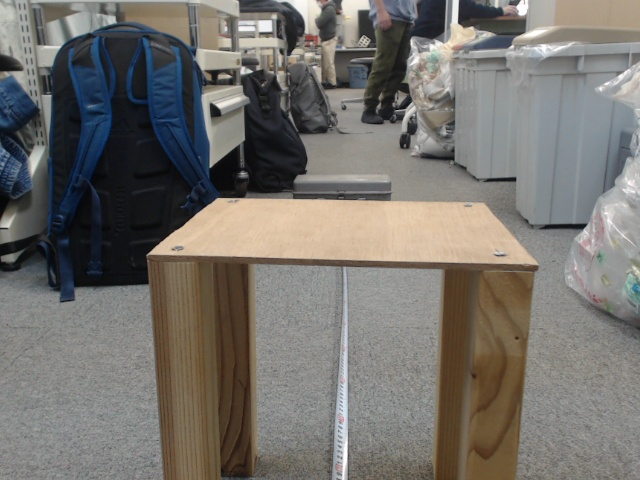desk: (240, 155, 460, 399)
